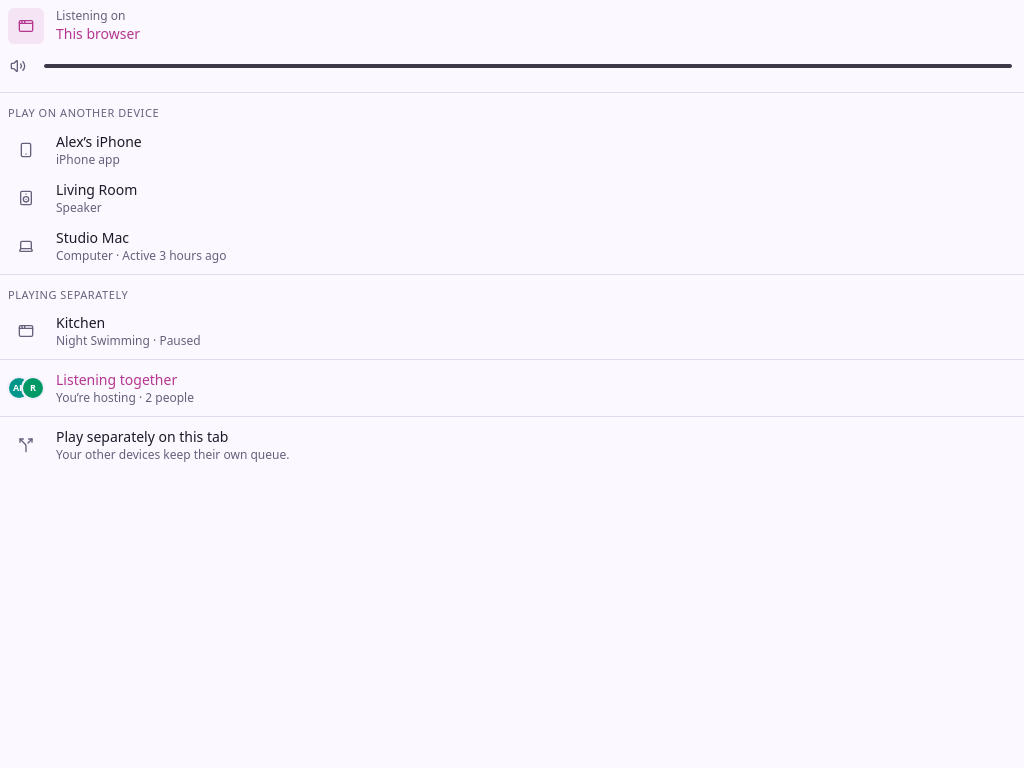
it: listen together › shows the host who is listening, the link, whom to invite and who adds songs
Later steps or results of the test are not shown.
Click the button "AK R Listening together You’re hosting · 2 people" at {"x": 117, "y": 380}, box left=0, top=364, right=1023, bottom=412
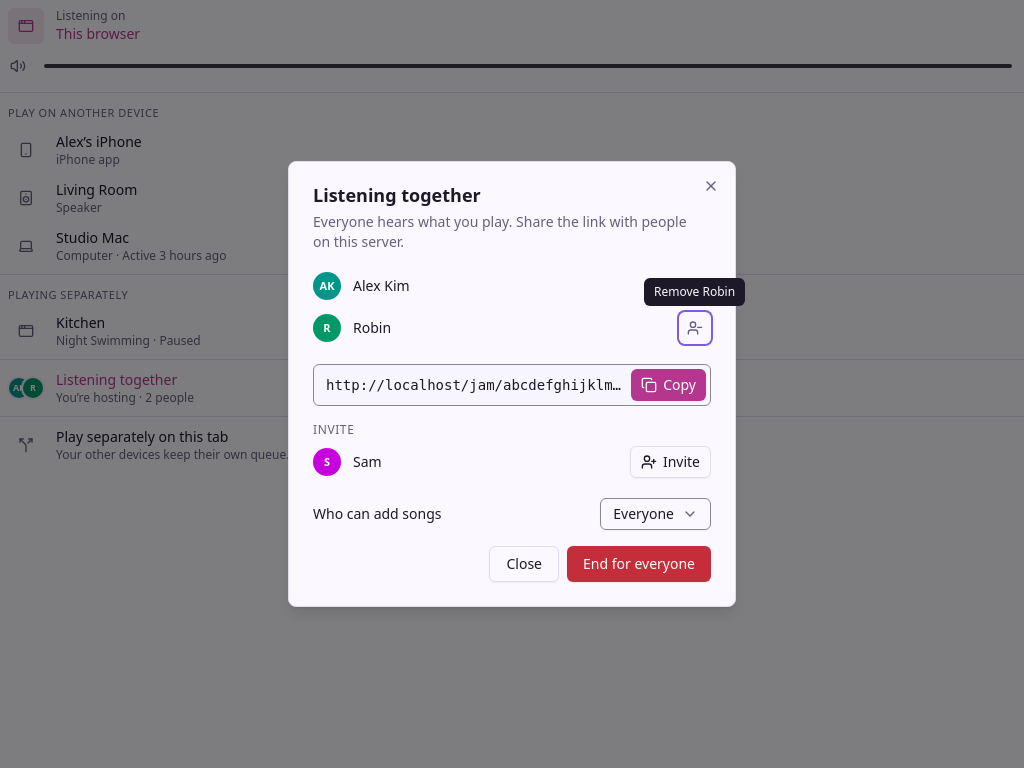
Check: the text "Alex Kim" is shown, box left=353, top=276, right=410, bottom=295
